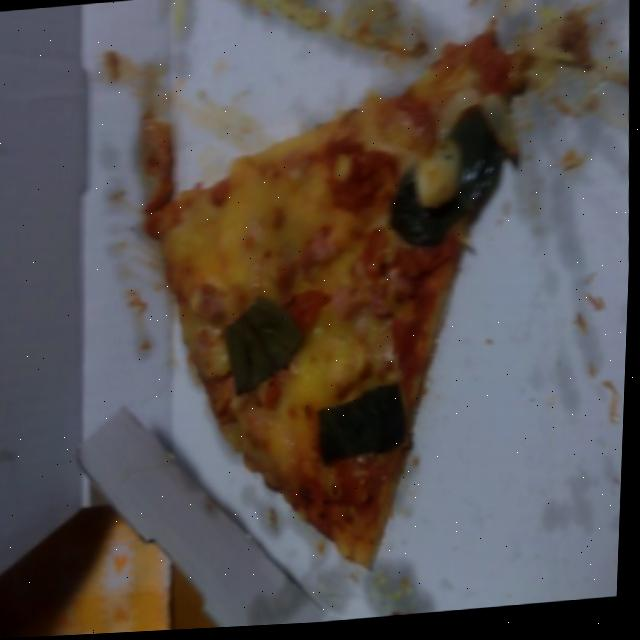汉堡快餐: (91, 33, 548, 614)
